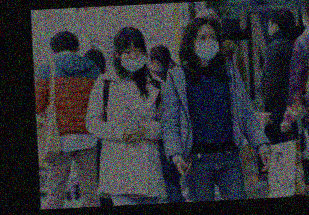mask_weared_incorrect: (117, 44, 146, 73)
with_mask: (193, 30, 220, 62)
